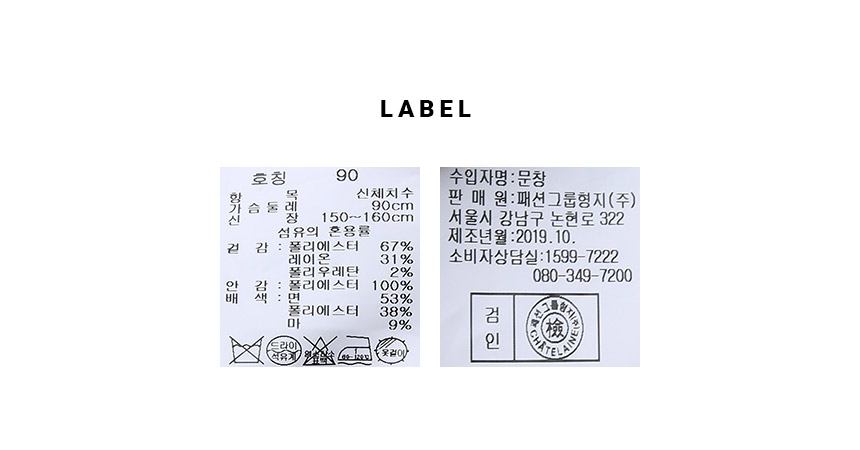KR_dry_clean_petroleum: (266, 332, 302, 365)
KR_hang_dry_in_shade: (374, 335, 410, 365)
KR_iron_low_temp_with_cloth: (336, 334, 375, 365)
KR_no_bleach: (302, 334, 337, 367)
KR_no_wash: (228, 333, 266, 365)
